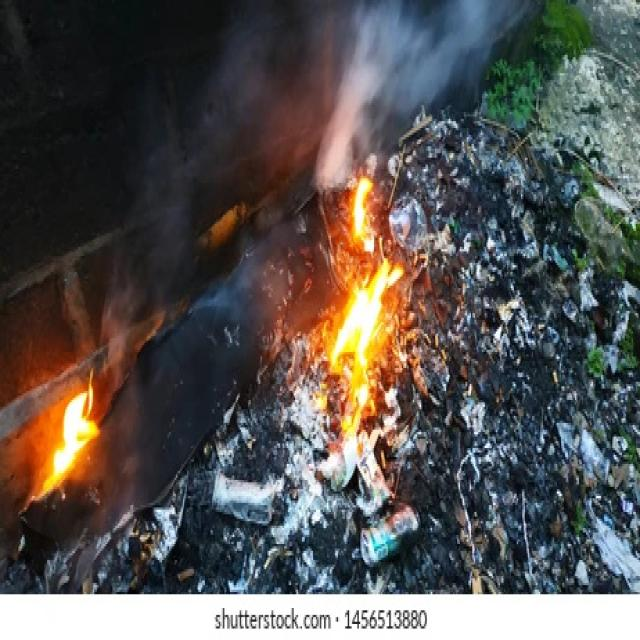fire: (322, 258, 406, 439), (45, 366, 100, 490), (354, 176, 375, 253)
